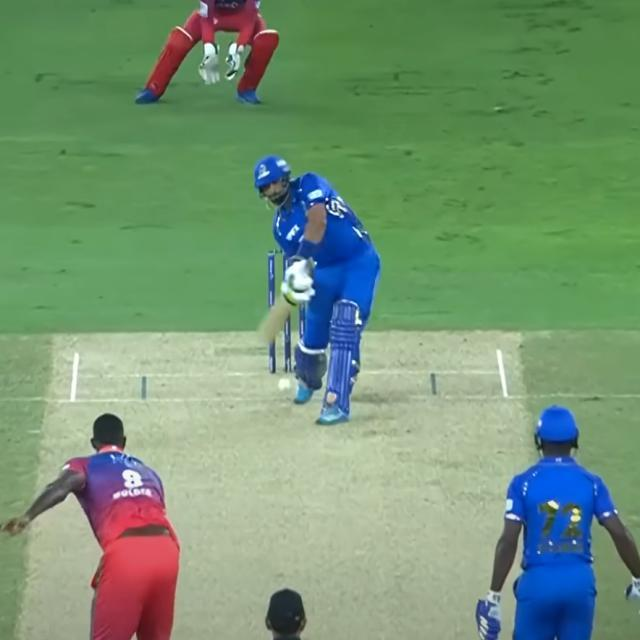bat: (253, 294, 310, 350)
